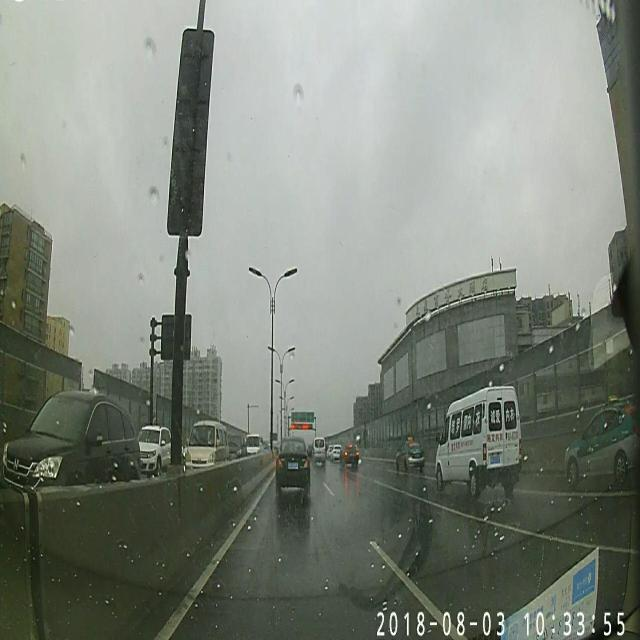car: (4, 394, 142, 504), (436, 382, 522, 486), (187, 418, 229, 478), (131, 421, 172, 474), (274, 436, 308, 493), (341, 442, 358, 469), (312, 439, 326, 462)
